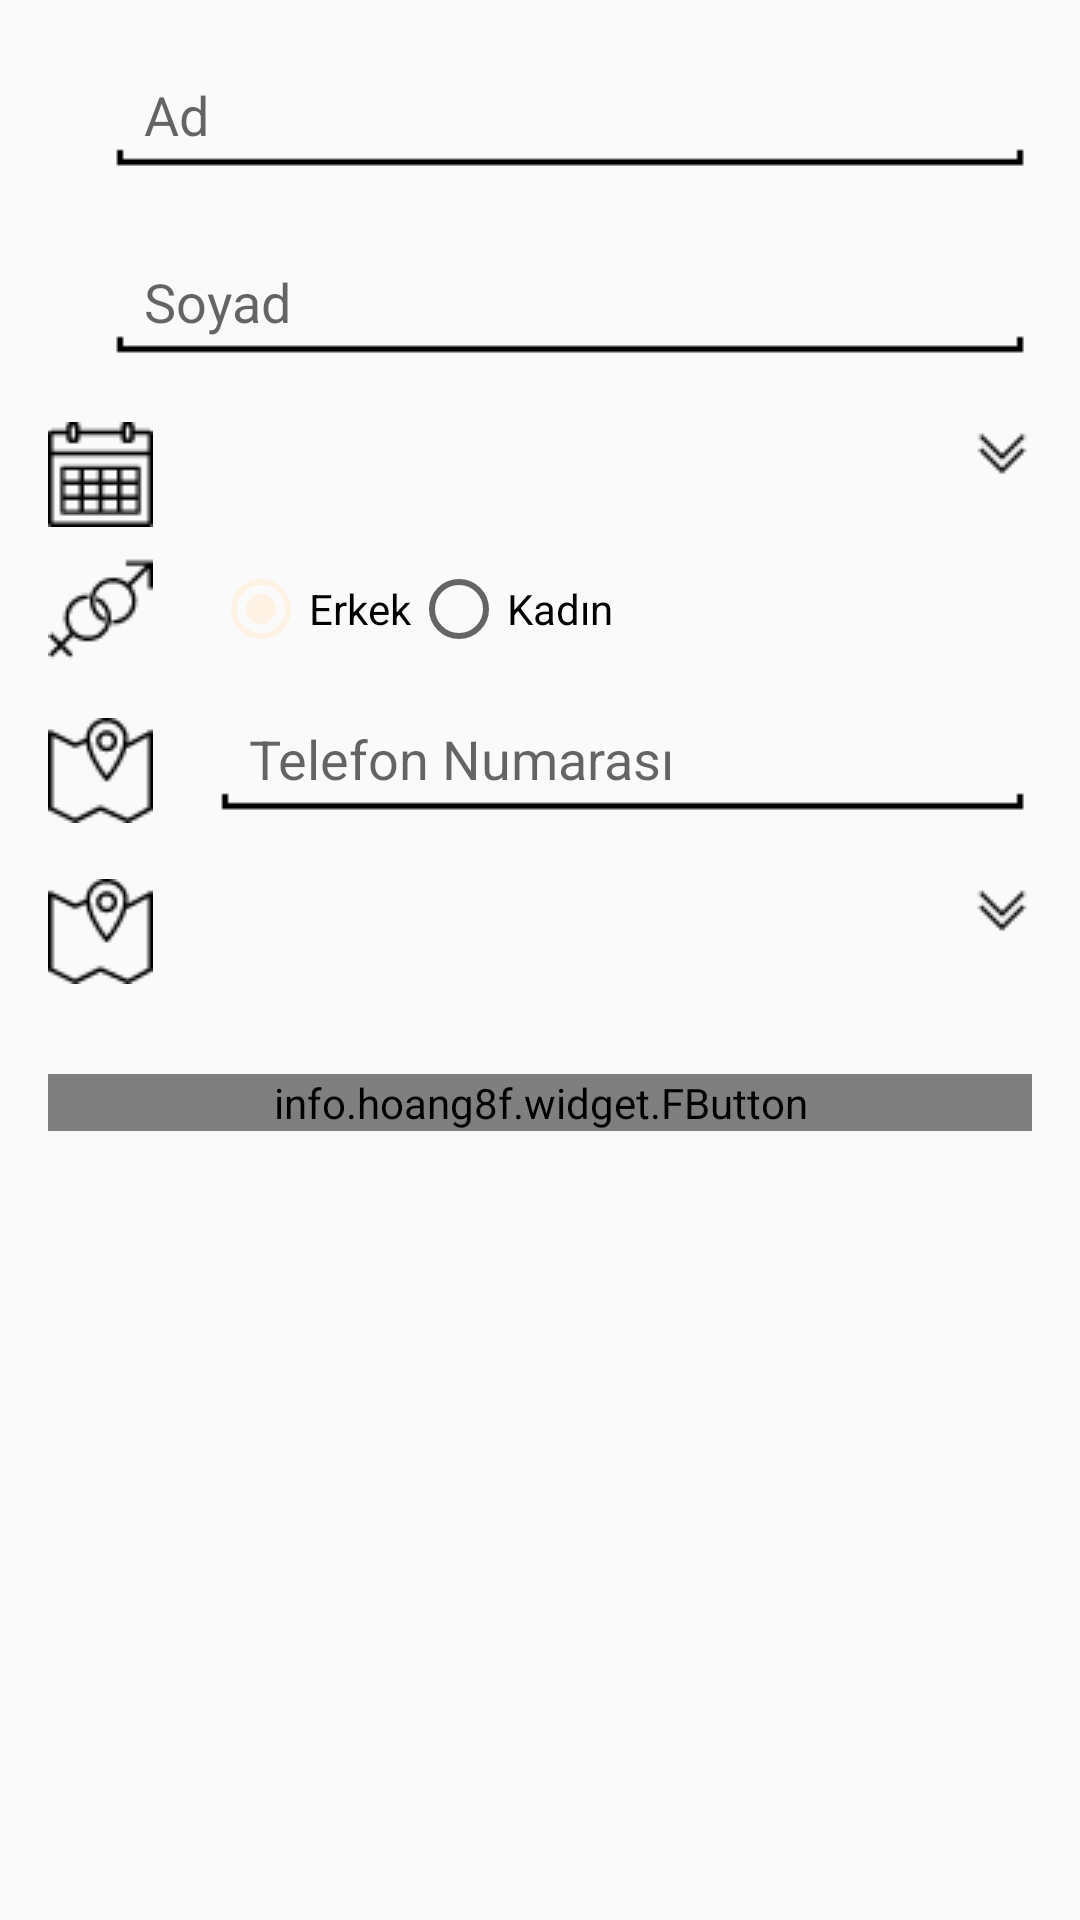

Icon bounding boxes for this 1080 × 1920 phone screenshot, format bbox(x1, y1, x2, y2):
calendar: bbox(48, 422, 153, 527)
city: bbox(48, 718, 153, 823), bbox(48, 879, 153, 984)
gender: bbox(48, 559, 153, 658)
